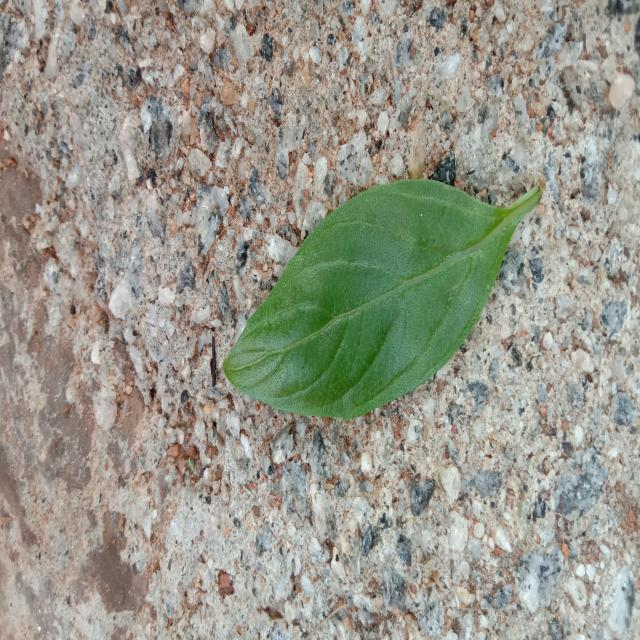kamakasturi: (224, 179, 542, 418)
